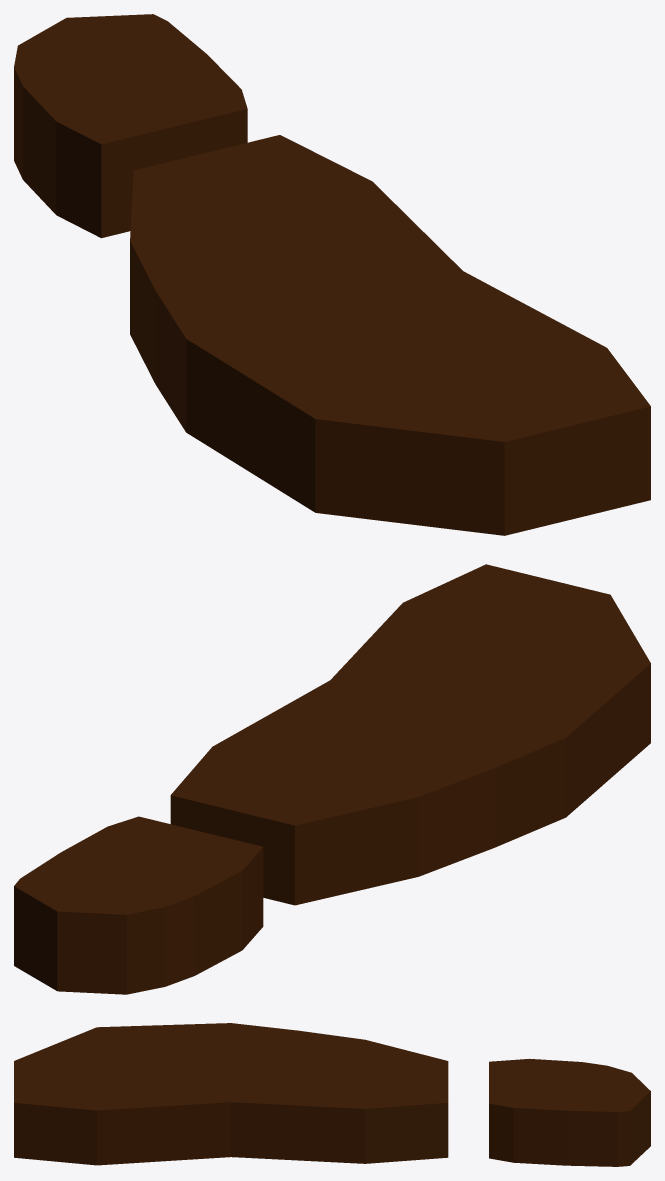
The model's file is HumanTrail.fbx.
3 renders of one model, top to bottom at view 1: azimuth 30°, elevation 25°; view 2: azimuth 150°, elevation 25°; view 3: azimuth 270°, elevation 25°, orthographic. The views are drawn at different scales.
Visible parts, largest first — view 1: HumanFootprint; view 2: HumanFootprint; view 3: HumanFootprint.
Part boxes in pixels (x1,y1,x2,y2): HumanFootprint: (14,14,650,535); HumanFootprint: (14,564,650,994); HumanFootprint: (14,1023,650,1166).
Size of the model in its own units: 0.36 by 0.1036 by 1.09.
